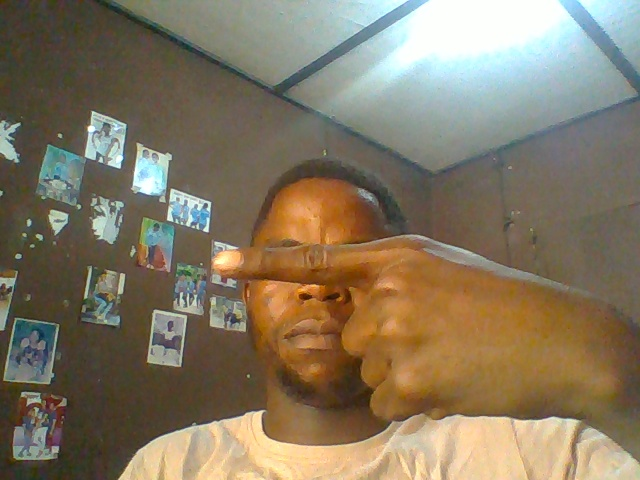Right: (207, 228, 595, 432)
